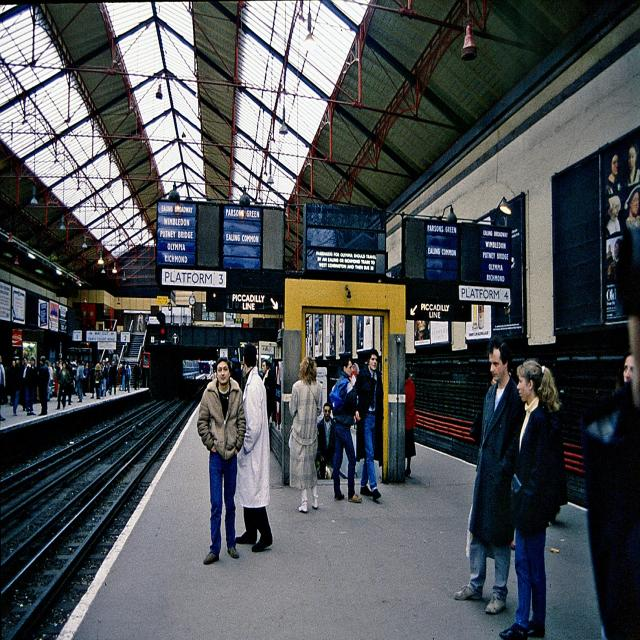body: (583, 132, 639, 638), (452, 333, 527, 617), (498, 358, 563, 639), (195, 354, 248, 568), (469, 369, 522, 554), (234, 342, 274, 554), (286, 356, 324, 513), (326, 356, 364, 507), (302, 314, 434, 356), (354, 347, 386, 504), (314, 402, 336, 481), (107, 355, 151, 394), (404, 368, 418, 479), (60, 357, 89, 398), (207, 354, 247, 382), (11, 359, 27, 416), (261, 358, 274, 425), (24, 354, 38, 416), (36, 354, 50, 416), (56, 360, 72, 411), (44, 354, 60, 404), (548, 489, 564, 531), (0, 354, 7, 422), (68, 354, 79, 397), (75, 359, 85, 404), (21, 356, 29, 409), (8, 360, 16, 404), (99, 359, 108, 397), (94, 362, 102, 400), (136, 312, 144, 334), (50, 302, 59, 320), (144, 313, 149, 332)
